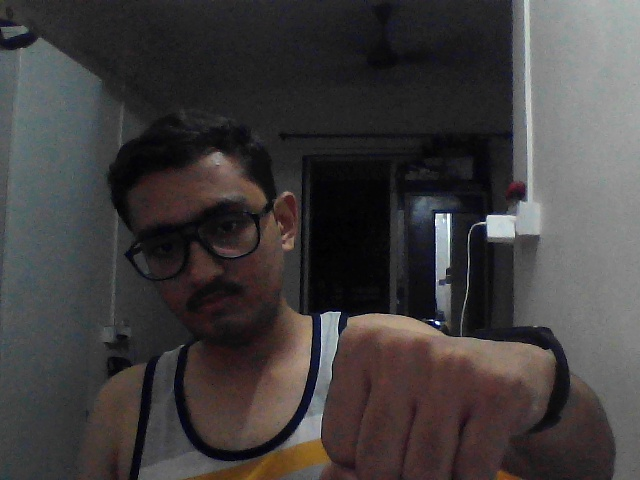Yes: (317, 279, 579, 480)
